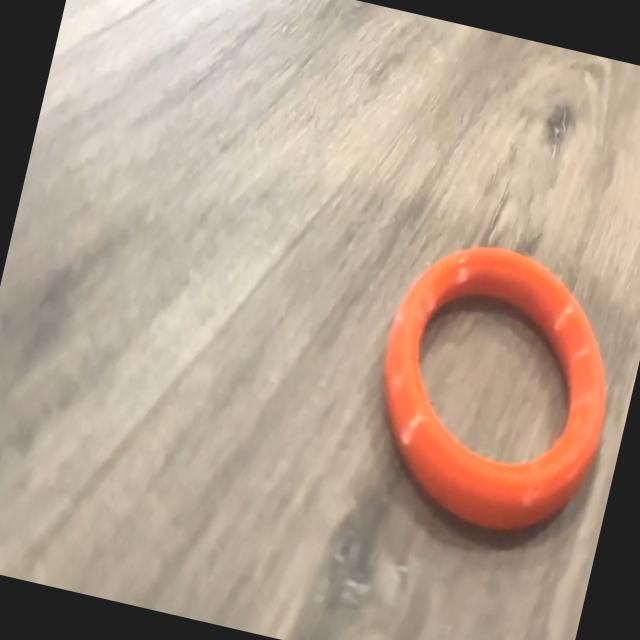note: (350, 223, 640, 555)
